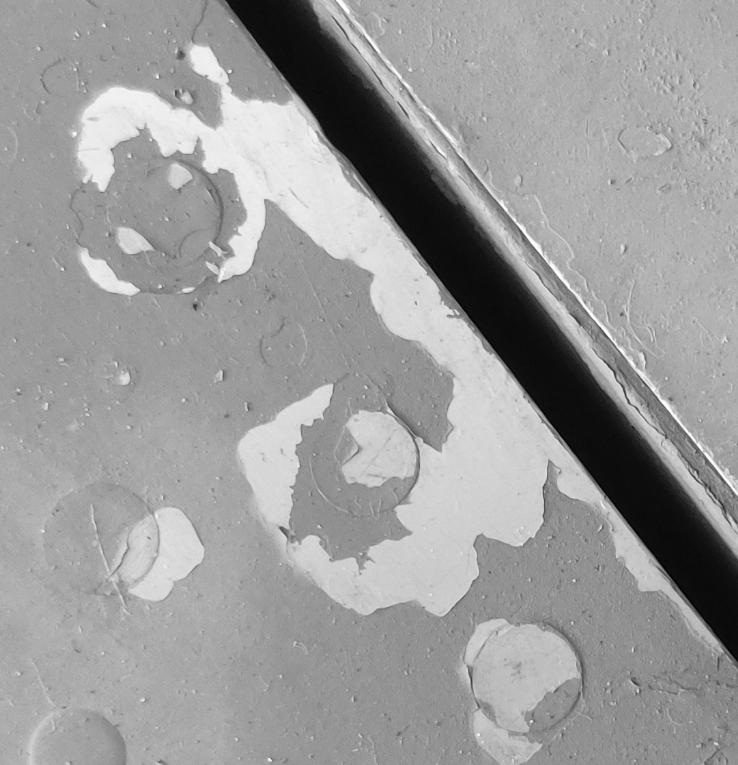paint-off: (0, 1, 738, 765)
